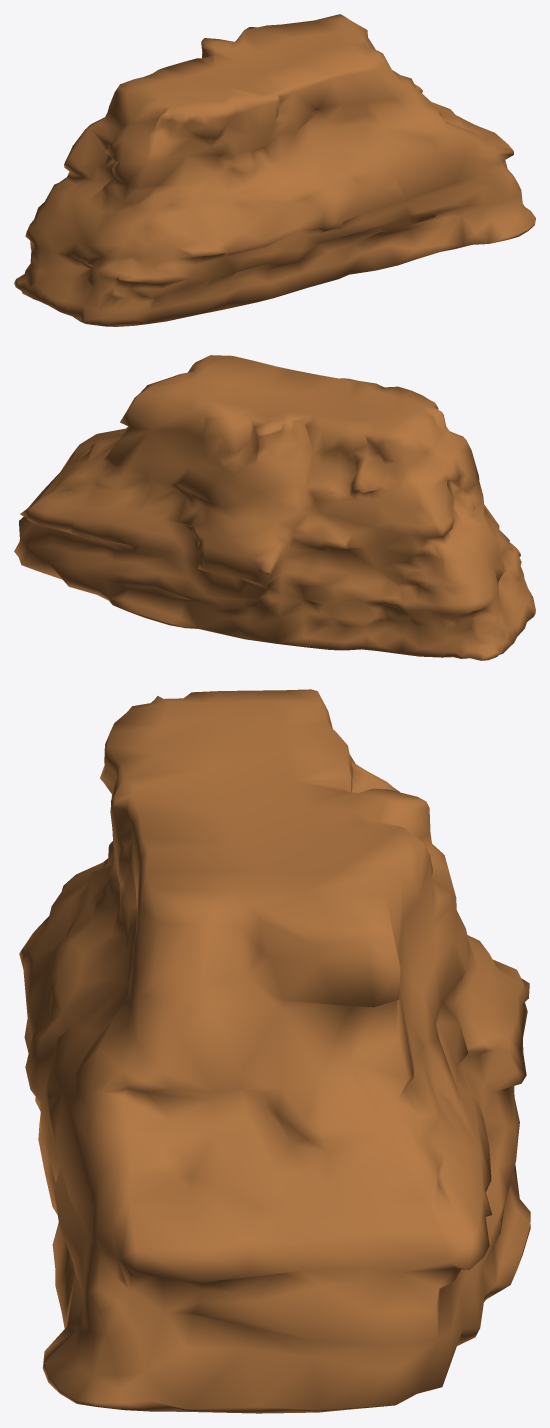
File: MSH_Rocks_Cliff_13_c.FBX
The picture shows the model from 3 angles, top to bottom: view 1: azimuth 30°, elevation 25°; view 2: azimuth 150°, elevation 25°; view 3: azimuth 270°, elevation 25°; orthographic projection. The views are drawn at different scales.
Parts seen in each view (by area): view 1: MESH_LOD0; view 2: MESH_LOD0; view 3: MESH_LOD0.
Boxes of the visible parts, x1,y1,x2,y2 form: MESH_LOD0: (14,14,535,326); MESH_LOD0: (14,355,535,660); MESH_LOD0: (19,689,530,1413).
Size of what is drawn, in the model's own units: 583 by 239 by 279.
